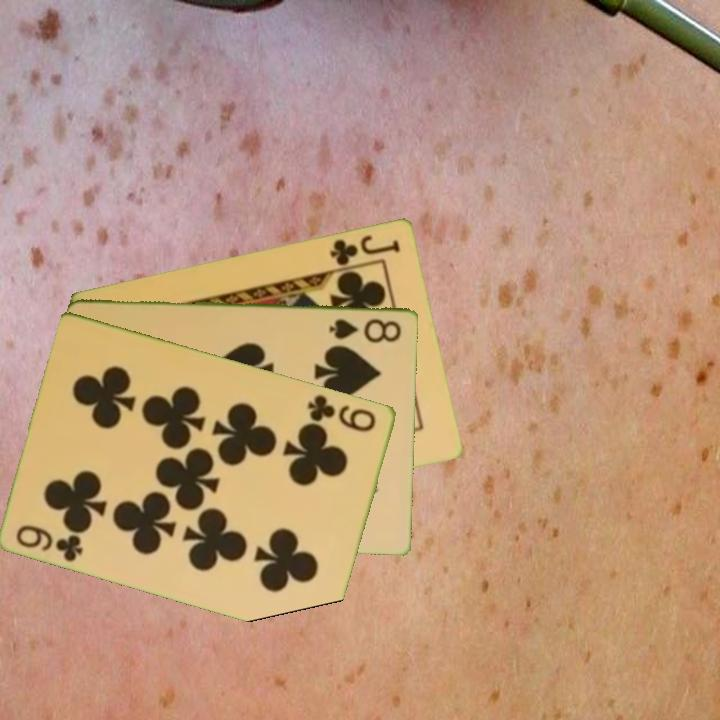8s: (325, 315, 405, 345)
9c: (305, 390, 380, 435), (13, 521, 87, 565)
Jc: (326, 231, 403, 268)
